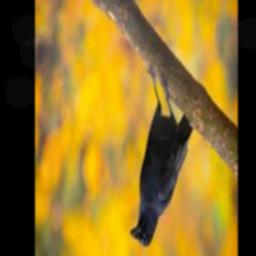Crow: (130, 63, 194, 247)
